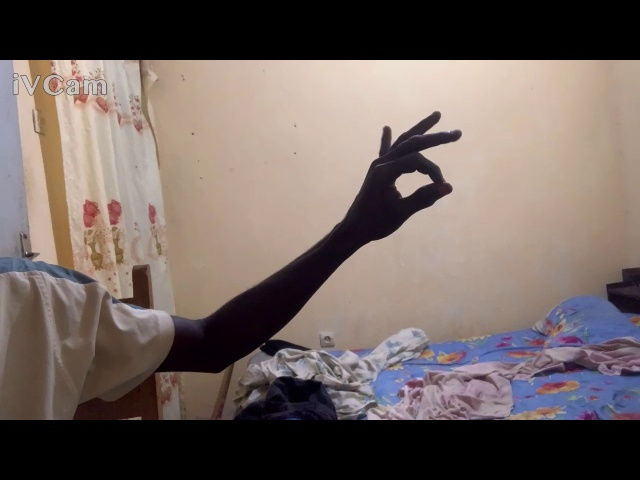oui: (350, 108, 468, 247)
